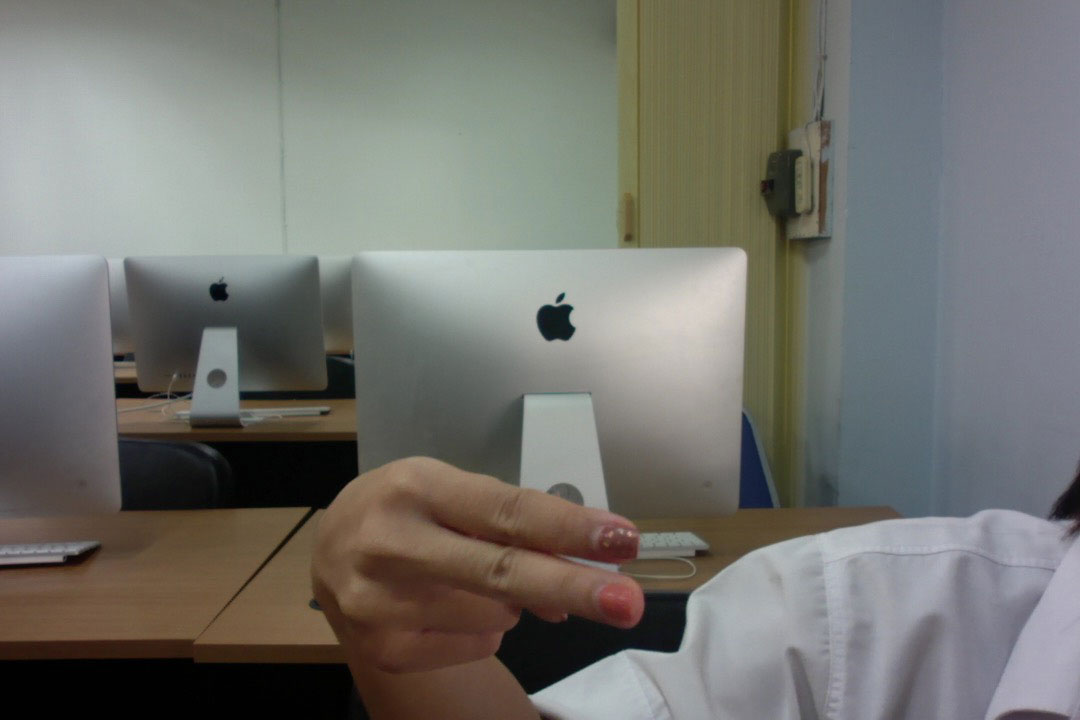hor: (293, 447, 659, 681)
